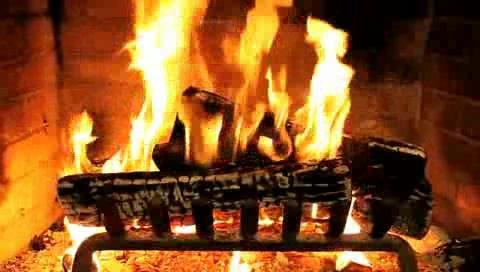fire: (47, 0, 355, 171)
